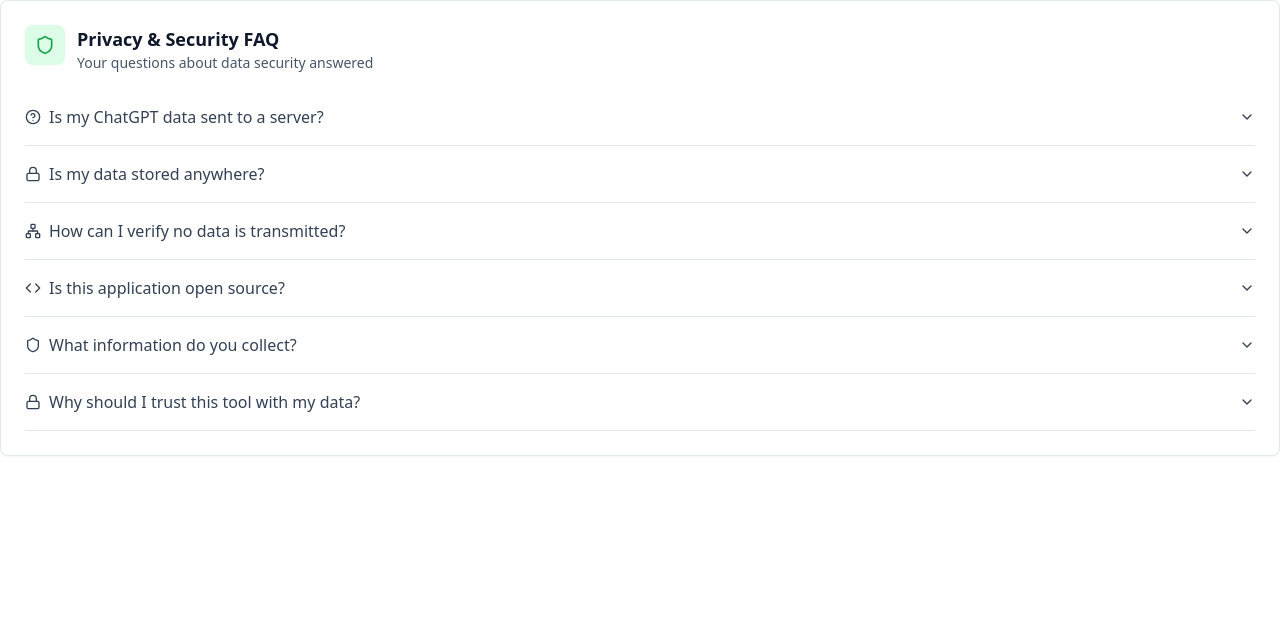
Test: PrivacyFAQ › expands FAQ item when clicked
The width and height of the screenshot is (1280, 619).
What coordinates should you click on to do the following:
click the button "Is my ChatGPT data sent to a server?"
I would click on:
 (186, 117)
Its box is [25,89,1255,145].
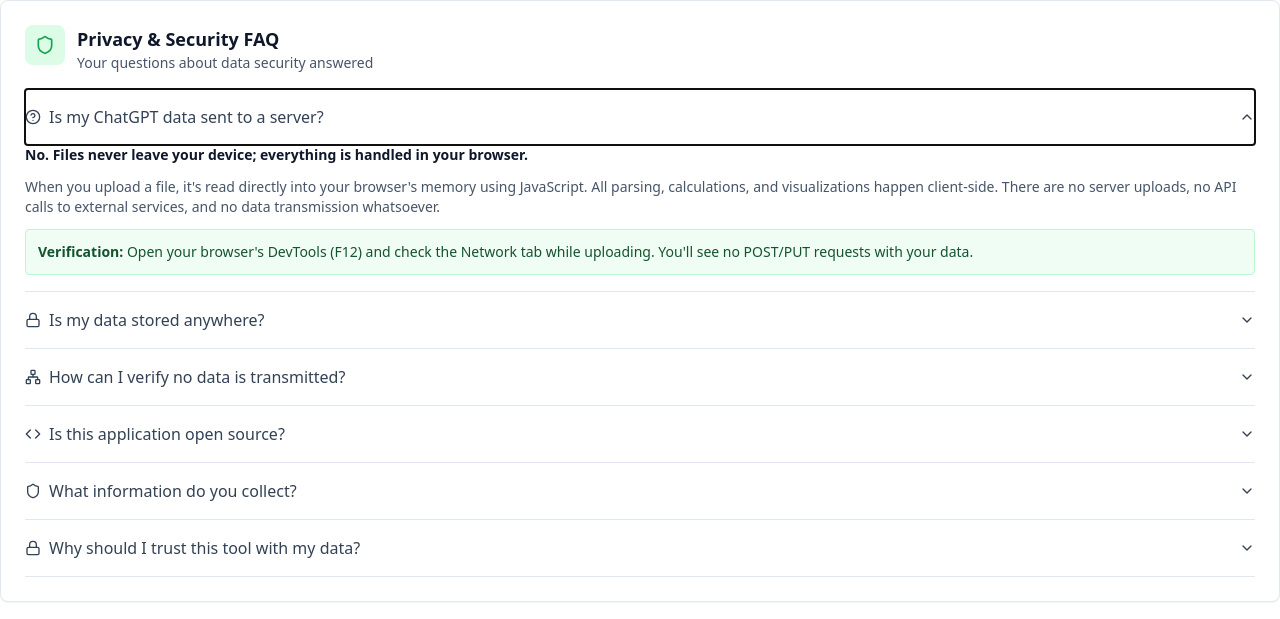
Expected: the text "Files never leave your device" is shown, [25,145,528,164]
